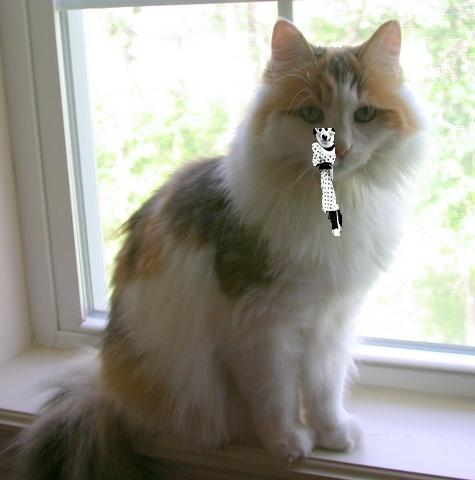tampered: (313, 129, 342, 236)
